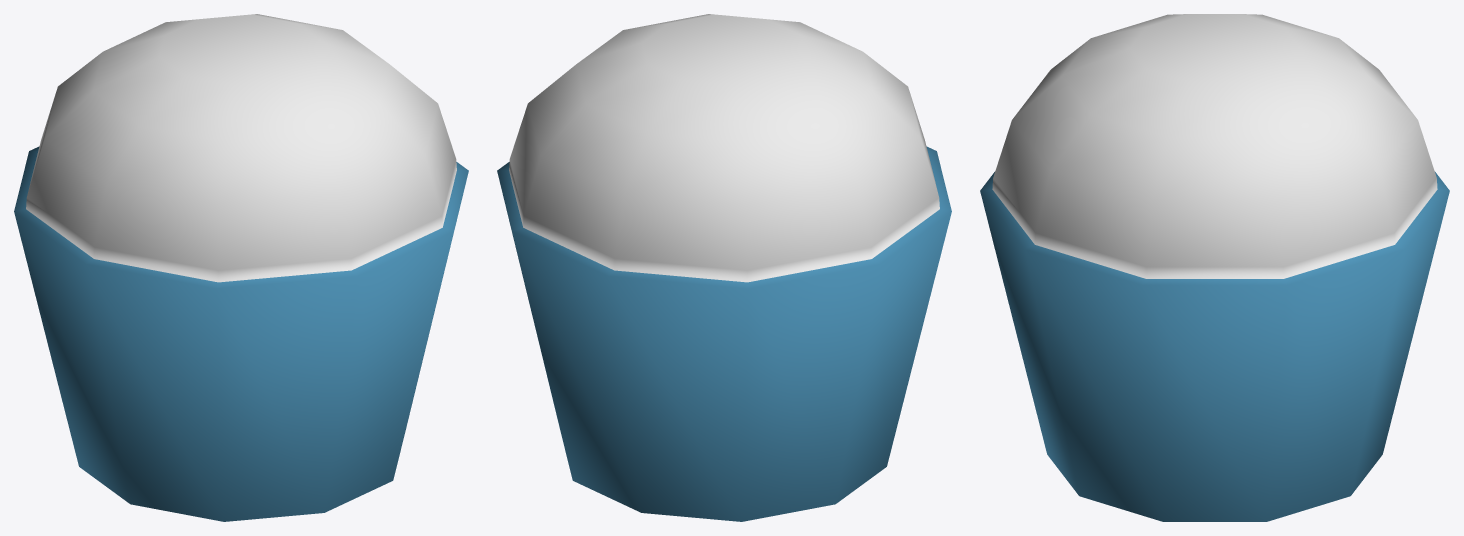
Rendered from BlueMuffin.fbx.
3 renders of one model, left to right at view 1: azimuth 30°, elevation 25°; view 2: azimuth 150°, elevation 25°; view 3: azimuth 270°, elevation 25°, orthographic.
Visible parts, largest first — view 1: BlueMuffin; view 2: BlueMuffin; view 3: BlueMuffin.
Part boxes in pixels (x1,y1,x2,y2): BlueMuffin: (14, 14, 468, 521); BlueMuffin: (497, 14, 951, 521); BlueMuffin: (980, 14, 1449, 521).
Bounding box in the file's own units: 17.57 × 17.67 × 18.48.
